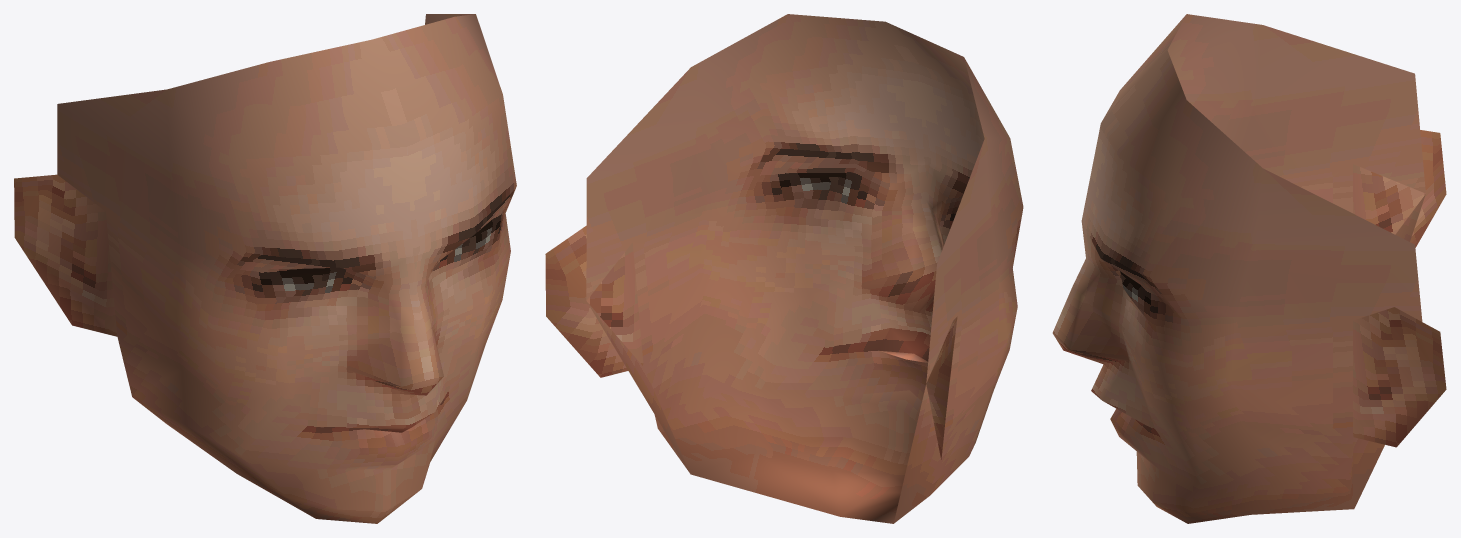
The picture shows the model from 3 angles, left to right: view 1: azimuth 30°, elevation 25°; view 2: azimuth 150°, elevation 25°; view 3: azimuth 270°, elevation 25°; orthographic projection. The views are drawn at different scales.
Size of the model in its own units: 17.18 by 18.67 by 14.39.
Materials: 1 (1 with a texture image).
